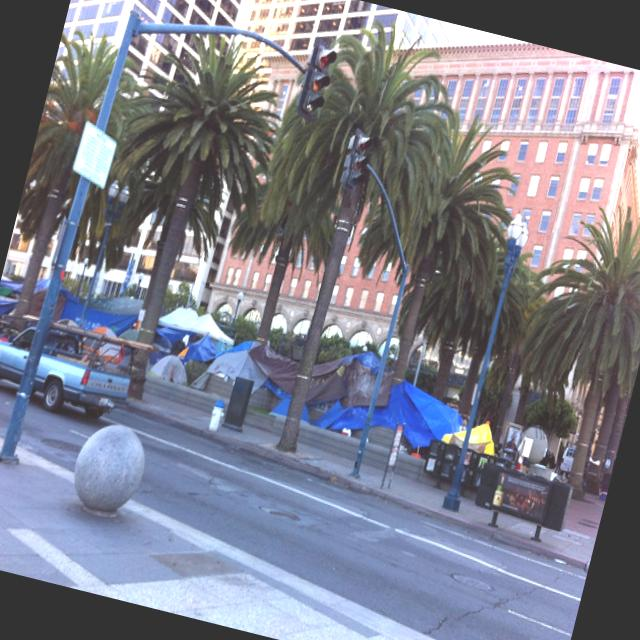Vehicle: (0, 306, 137, 425), (0, 316, 23, 360)
